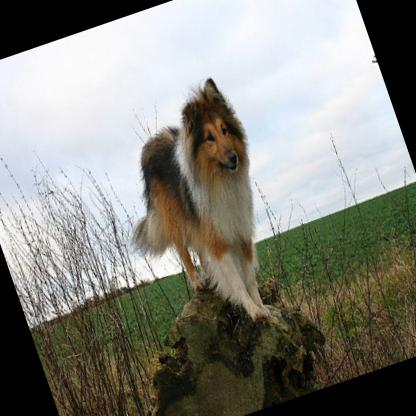Shetland_sheepdog: (80, 69, 307, 358)
